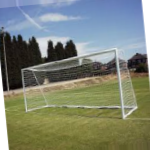goals: (22, 47, 140, 121)
